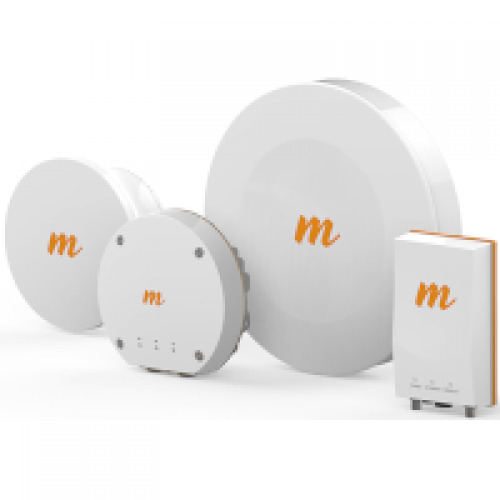ba: (204, 74, 462, 400), (97, 195, 253, 395), (4, 141, 149, 345)
